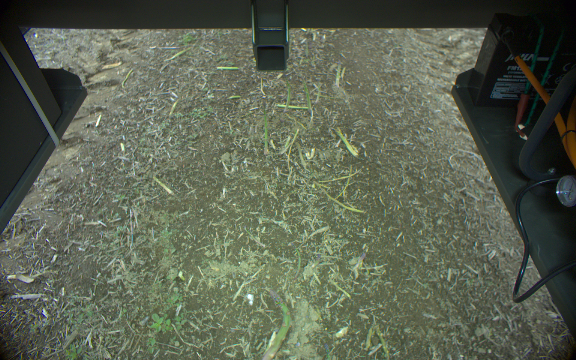aspa: (260, 287, 291, 360), (259, 105, 270, 156), (300, 78, 313, 116), (280, 81, 293, 114)
